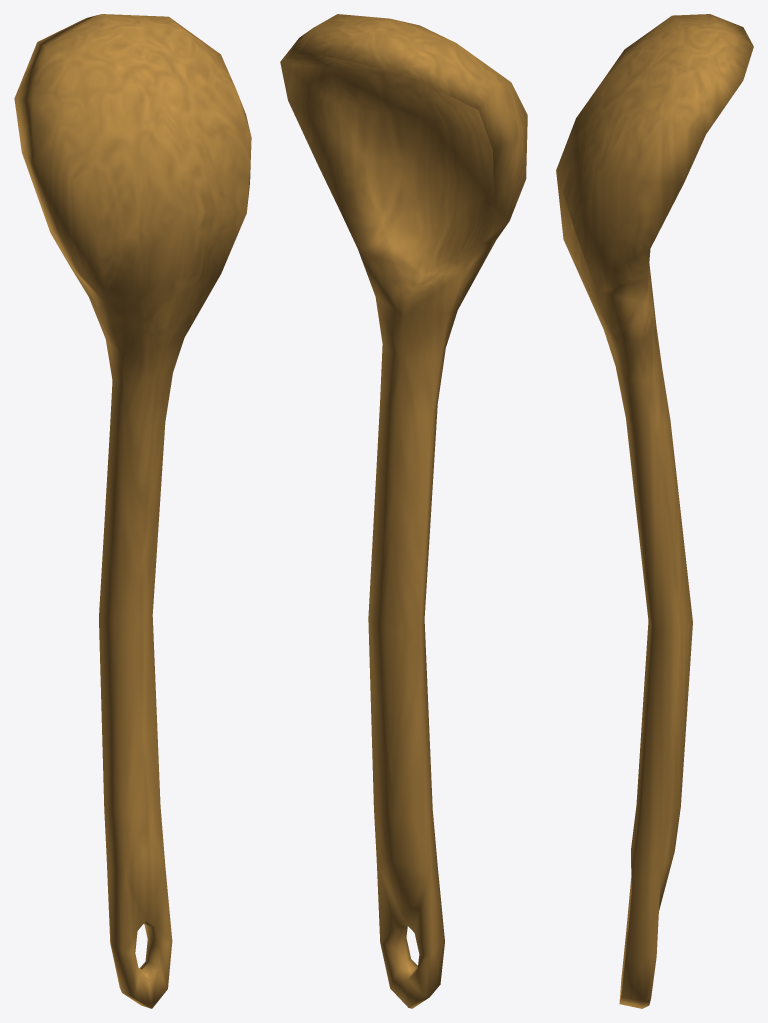
File: ustensils5.glb
3 renders of one model, left to right at view 1: azimuth 30°, elevation 25°; view 2: azimuth 150°, elevation 25°; view 3: azimuth 270°, elevation 25°, orthographic. The views are drawn at different scales.
Visible parts, largest first — view 1: ustensils5; view 2: ustensils5; view 3: ustensils5.
Boxes of the visible parts, x1,y1,x2,y2 form: ustensils5: (14,14,251,1008); ustensils5: (280,14,527,1008); ustensils5: (556,14,753,1008).
Bounding box in the file's own units: 0.1263 × 0.5485 × 0.1004.
Materials: 1 (1 with a texture image).
